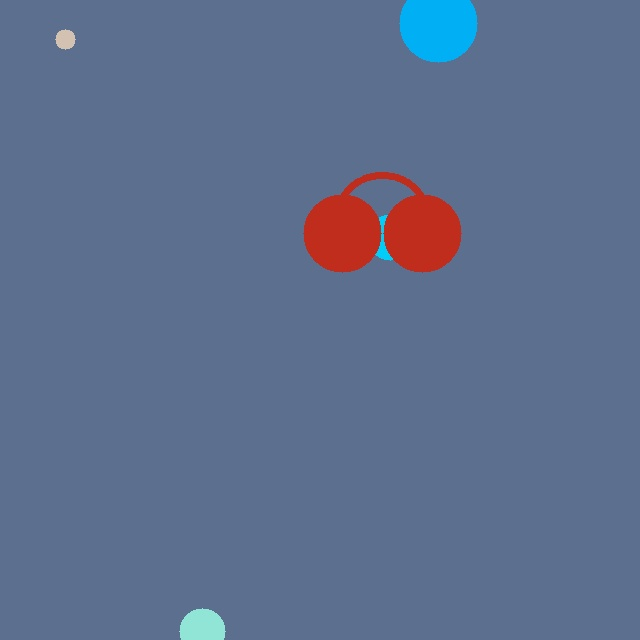over_ear: (299, 166, 465, 276)
